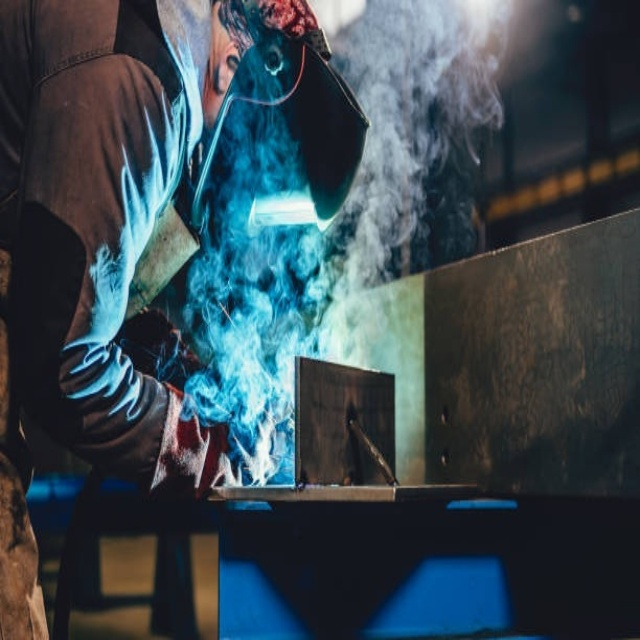Guantes: (141, 367, 289, 513)
